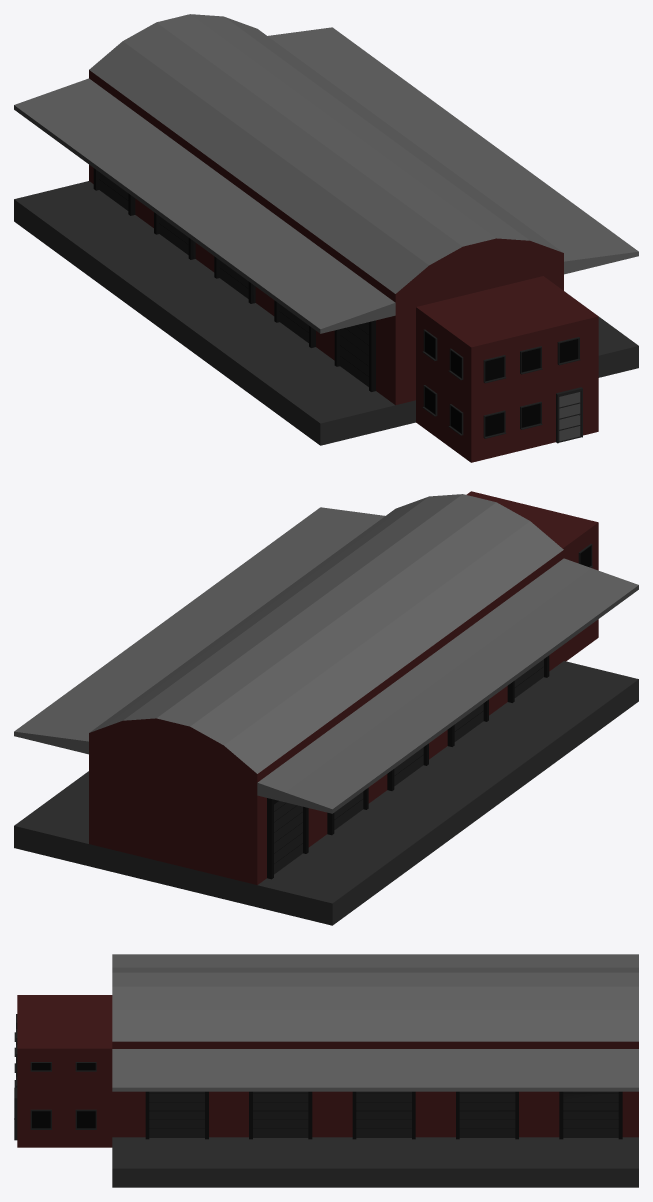
The model's file is SM_warehouse_03.FBX.
3 renders of one model, top to bottom at view 1: azimuth 30°, elevation 25°; view 2: azimuth 150°, elevation 25°; view 3: azimuth 270°, elevation 25°, orthographic. The views are drawn at different scales.
Visible parts, largest first — view 1: Warehouse03; view 2: Warehouse03; view 3: Warehouse03.
Boxes of the visible parts, <box> form: Warehouse03: <box>14,14,638,462</box>; Warehouse03: <box>14,491,638,925</box>; Warehouse03: <box>14,954,638,1187</box>.
Bounding box in the file's own units: 1500 × 740 × 2966.
